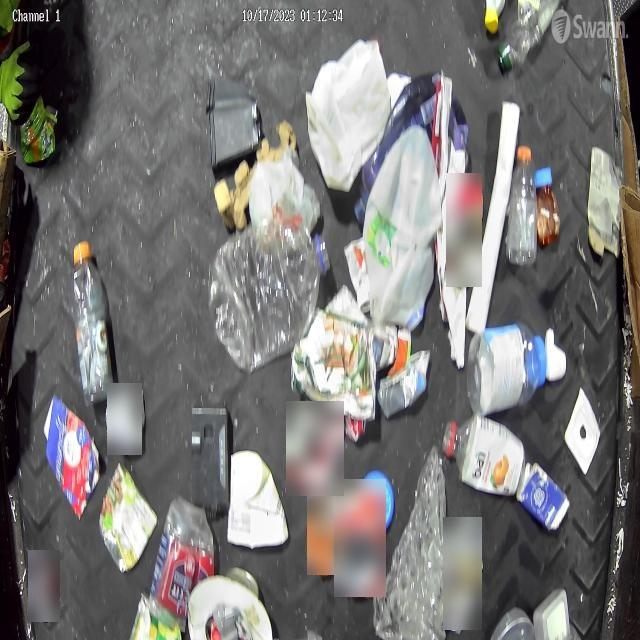milk_jug: (360, 124, 440, 326), (307, 38, 390, 196)
plastic_bottle: (210, 228, 328, 370), (70, 236, 114, 401), (499, 0, 565, 71), (507, 146, 538, 264)
